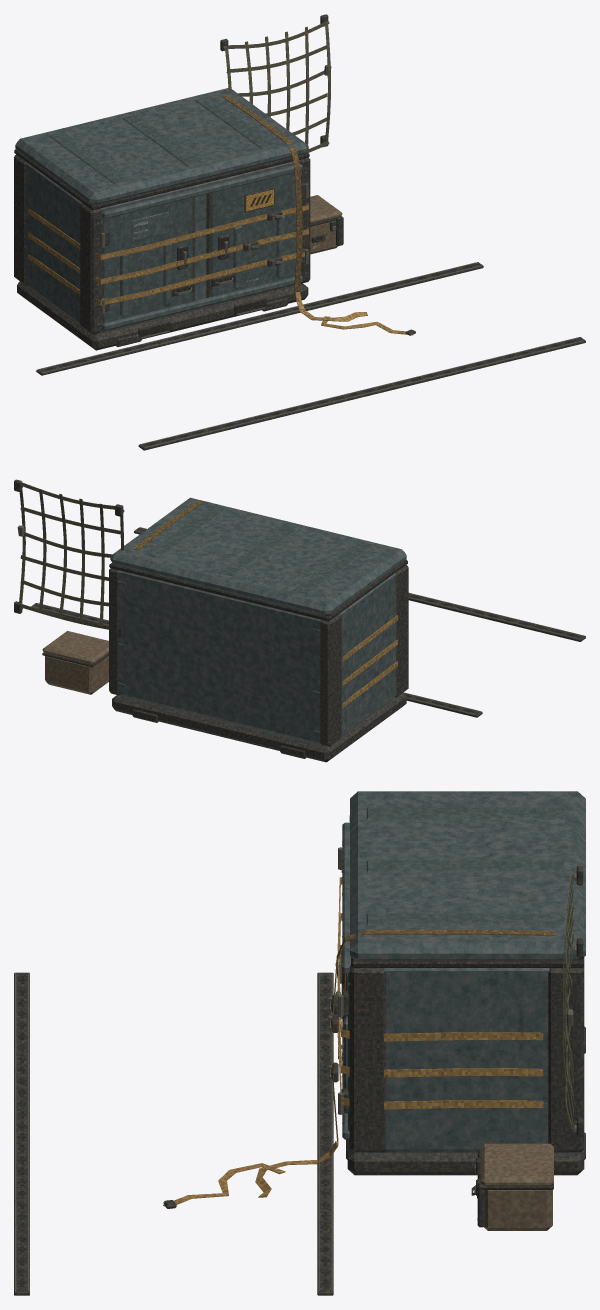
Rendered from cargo_equipment.glb.
The picture shows the model from 3 angles, top to bottom: view 1: azimuth 30°, elevation 25°; view 2: azimuth 150°, elevation 25°; view 3: azimuth 270°, elevation 25°; orthographic projection. The views are drawn at different scales.
Visible parts, largest first — view 1: CargoModule, DeckTracks, LashingBelts, RestraintNet, TransitCase; view 2: CargoModule, RestraintNet, TransitCase, DeckTracks, LashingBelts; view 3: CargoModule, DeckTracks, LashingBelts, TransitCase, RestraintNet.
Part boxes in pixels (x1=…): CargoModule: x1=14, y1=88, x2=310, y2=350; DeckTracks: x1=36, y1=262, x2=585, y2=450; LashingBelts: x1=28, y1=95, x2=415, y2=335; RestraintNet: x1=220, y1=14, x2=331, y2=152; TransitCase: x1=310, y1=195, x2=343, y2=254; CargoModule: x1=109, y1=497, x2=408, y2=762; RestraintNet: x1=14, y1=479, x2=125, y2=637; TransitCase: x1=42, y1=631, x2=108, y2=694; DeckTracks: x1=31, y1=527, x2=585, y2=717; LashingBelts: x1=133, y1=500, x2=397, y2=707; CargoModule: x1=335, y1=791, x2=585, y2=1175; DeckTracks: x1=14, y1=972, x2=333, y2=1295; LashingBelts: x1=163, y1=877, x2=555, y2=1208; TransitCase: x1=471, y1=1143, x2=553, y2=1230; RestraintNet: x1=563, y1=866, x2=583, y2=1136.
Bounding box in the file's own units: 4.42 × 1.97 × 3.34.
Materials: 24 (24 with a texture image).
